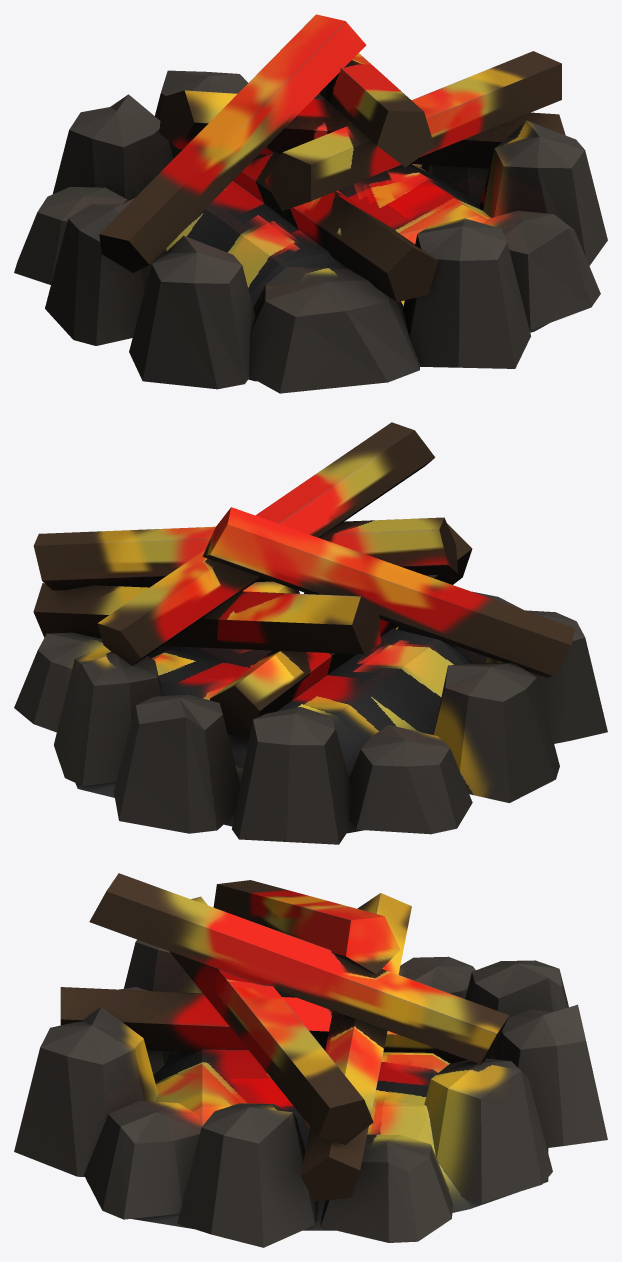
The model's file is fire_new.dae.
3 renders of one model, top to bottom at view 1: azimuth 30°, elevation 25°; view 2: azimuth 150°, elevation 25°; view 3: azimuth 270°, elevation 25°, orthographic. The views are drawn at different scales.
Visible parts, largest first — view 1: Camp_fire_001; view 2: Camp_fire_001; view 3: Camp_fire_001.
Boxes of the visible parts, box(x1,y1,x2,y2) form: Camp_fire_001: box(14, 14, 607, 393); Camp_fire_001: box(14, 422, 607, 844); Camp_fire_001: box(14, 873, 607, 1247).
Size of the model in its own units: 2.57 by 2.58 by 1.17.
Materials: 1 (1 with a texture image).
